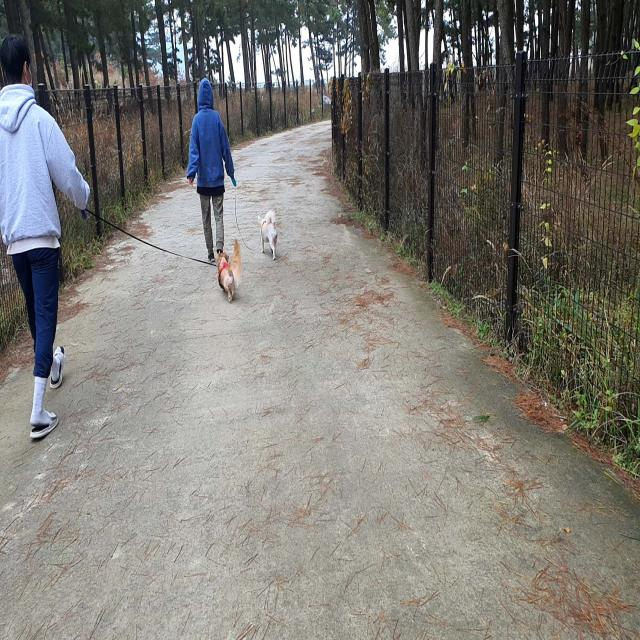Leashed_Dog: (27, 190, 243, 304), (214, 172, 278, 262)
